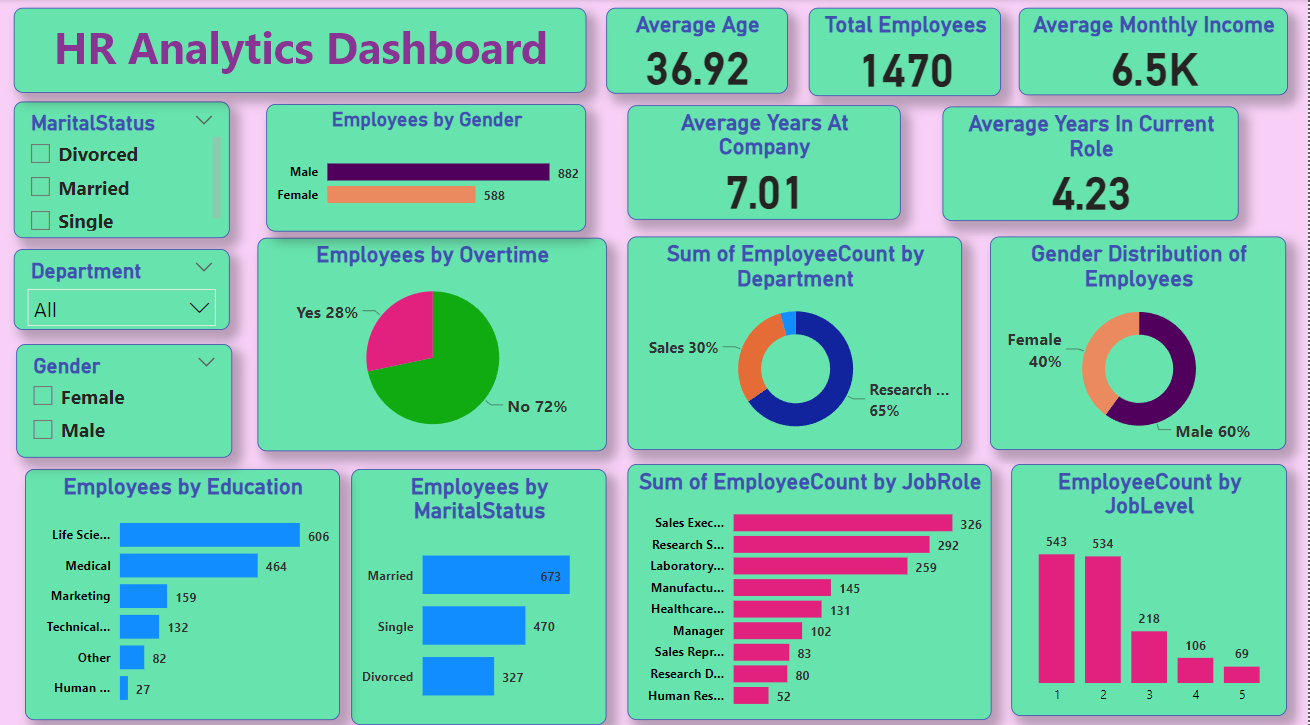

What the dashboard file says about the page in this screenshot:
{"tool":"powerbi","page":{"name":"Page 1","canvas":[1280,720],"ordinal":0},"visuals":[{"type":"card","title":"Total Employees","fields":{"Values":["Sum(HR-Employee-Attrition.EmployeeCount)"]},"box":[790.9,8.6,188.3,86.8],"z":0},{"type":"card","title":"Average Age","fields":{"Values":["Avg(HR-Employee-Attrition.Age)"]},"box":[592.9,8.6,177.2,84.3],"z":1000},{"type":"card","title":"Average Monthly Income","fields":{"Values":["Avg(HR-Employee-Attrition.MonthlyIncome)"]},"box":[995.7,9,263,86],"z":2000},{"type":"card","title":"Average Years  At Company","fields":{"Values":["Avg(HR-Employee-Attrition.YearsAtCompany)"]},"box":[613.3,103.9,266.9,111.6],"z":3000},{"type":"card","title":"Average Years In Current Role","fields":{"Values":["Avg(HR-Employee-Attrition.YearsInCurrentRole)"]},"box":[921.3,105.2,290,111.6],"z":4000},{"type":"donutChart","title":"Gender Distribution of Employees","fields":{"Y":["Sum(HR-Employee-Attrition.EmployeeCount)"],"Category":["HR-Employee-Attrition.Gender"]},"box":[968.7,232.2,290,209.1],"z":5000},{"type":"donutChart","fields":{"Category":["HR-Employee-Attrition.Department"],"Y":["Sum(HR-Employee-Attrition.EmployeeCount)"]},"box":[613.3,232.2,327.2,209.1],"z":6000},{"type":"pieChart","title":"Employees by Overtime","fields":{"Y":["Sum(HR-Employee-Attrition.EmployeeCount)"],"Category":["HR-Employee-Attrition.OverTime"]},"box":[251.5,233.5,341.3,209.1],"z":7000},{"type":"clusteredBarChart","title":"Employees  by MaritalStatus","fields":{"Y":["Sum(HR-Employee-Attrition.EmployeeCount)"],"Category":["HR-Employee-Attrition.MaritalStatus"]},"box":[343.5,459.6,249.4,250.6],"z":8000},{"type":"slicer","fields":{"Values":["HR-Employee-Attrition.MaritalStatus"]},"box":[13.4,100.2,211.5,133.2],"z":9000},{"type":"clusteredBarChart","title":" Employees by Education","fields":{"Y":["Sum(HR-Employee-Attrition.EmployeeCount)"],"Category":["HR-Employee-Attrition.EducationField"]},"box":[24.4,459.6,308,245.7],"z":10000},{"type":"clusteredColumnChart","title":"EmployeeCount by JobLevel","fields":{"Y":["Sum(HR-Employee-Attrition.EmployeeCount)"],"Category":["HR-Employee-Attrition.JobLevel"]},"box":[989.3,454.2,269.4,246.4],"z":11000},{"type":"clusteredBarChart","fields":{"Y":["Sum(HR-Employee-Attrition.EmployeeCount)"],"Category":["HR-Employee-Attrition.JobRole"]},"box":[613.7,454.7,355.7,250.6],"z":12000},{"type":"slicer","fields":{"Values":["HR-Employee-Attrition.Department"]},"box":[13.4,244.5,211.5,79.5],"z":13000},{"type":"slicer","fields":{"Values":["HR-Employee-Attrition.Gender"]},"box":[15.9,337.4,211.5,111.2],"z":14000},{"type":"textbox","box":[13.4,8.6,559.9,83.1],"z":15000},{"type":"clusteredBarChart","title":" Employees by Gender","fields":{"Y":["Sum(HR-Employee-Attrition.EmployeeCount)"],"Category":["HR-Employee-Attrition.Gender"]},"box":[260.4,102.7,312.9,124.7],"z":15001}]}

Visuals, with their boxes in screenshot pixels (x1, y1, x2, y2), scaled from the page's 1280x720 canvas onto the 1310x725 screenshot:
"Total Employees" card: box(809, 9, 1002, 96)
"Average Age" card: box(607, 9, 788, 94)
"Average Monthly Income" card: box(1019, 9, 1288, 96)
"Average Years  At Company" card: box(628, 105, 901, 217)
"Average Years In Current Role" card: box(943, 106, 1240, 218)
"Gender Distribution of Employees" donutChart: box(991, 234, 1288, 444)
donutChart - HR-Employee-Attrition.Department x Sum(HR-Employee-Attrition.EmployeeCount): box(628, 234, 963, 444)
"Employees by Overtime" pieChart: box(257, 235, 607, 446)
"Employees  by MaritalStatus" clusteredBarChart: box(352, 463, 607, 715)
slicer - HR-Employee-Attrition.MaritalStatus: box(14, 101, 230, 235)
" Employees by Education" clusteredBarChart: box(25, 463, 340, 710)
"EmployeeCount by JobLevel" clusteredColumnChart: box(1012, 457, 1288, 705)
clusteredBarChart - Sum(HR-Employee-Attrition.EmployeeCount) x HR-Employee-Attrition.JobRole: box(628, 458, 992, 710)
slicer - HR-Employee-Attrition.Department: box(14, 246, 230, 326)
slicer - HR-Employee-Attrition.Gender: box(16, 340, 233, 452)
textbox: box(14, 9, 587, 92)
" Employees by Gender" clusteredBarChart: box(267, 103, 587, 229)
